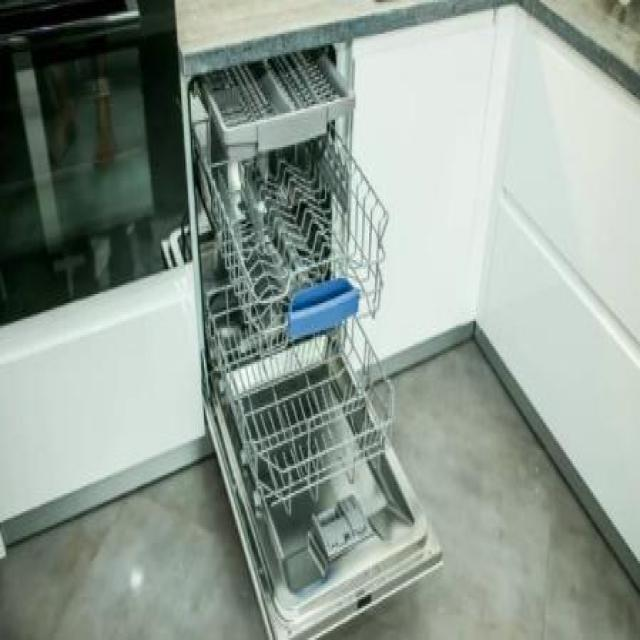dishwasher: (176, 31, 447, 640)
